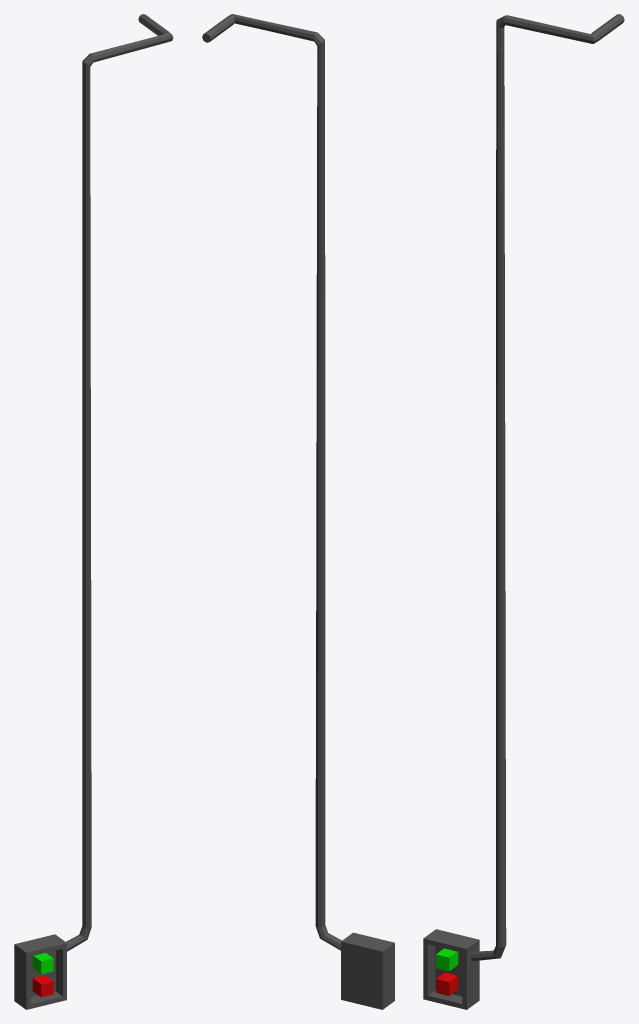
The model's file is Botao_Abrir.fbx.
3 renders of one model, left to right at view 1: azimuth 30°, elevation 25°; view 2: azimuth 150°, elevation 25°; view 3: azimuth 330°, elevation 25°, orthographic. The views are drawn at different scales.
Visible parts, largest first — view 1: pCylinder1, pCube11; view 2: pCylinder1, pCube11; view 3: pCylinder1, pCube11.
Boxes of the visible parts, left/top/right/bottom form: pCylinder1: left=66, top=14, right=173, bottom=951; pCube11: left=14, top=934, right=66, bottom=1009; pCylinder1: left=202, top=14, right=341, bottom=950; pCube11: left=341, top=932, right=394, bottom=1009; pCylinder1: left=470, top=14, right=624, bottom=961; pCube11: left=423, top=929, right=479, bottom=1009.
Size of the model in its own units: 1.17 by 6.78 by 0.4679.
